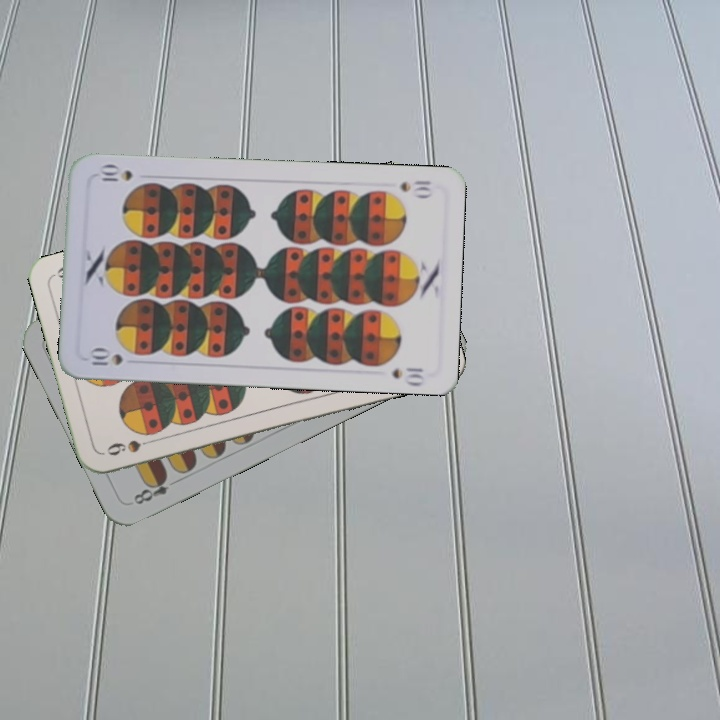E8: (129, 470, 182, 508)
S10: (83, 345, 125, 369), (396, 176, 435, 200)
S9: (102, 434, 159, 458)
